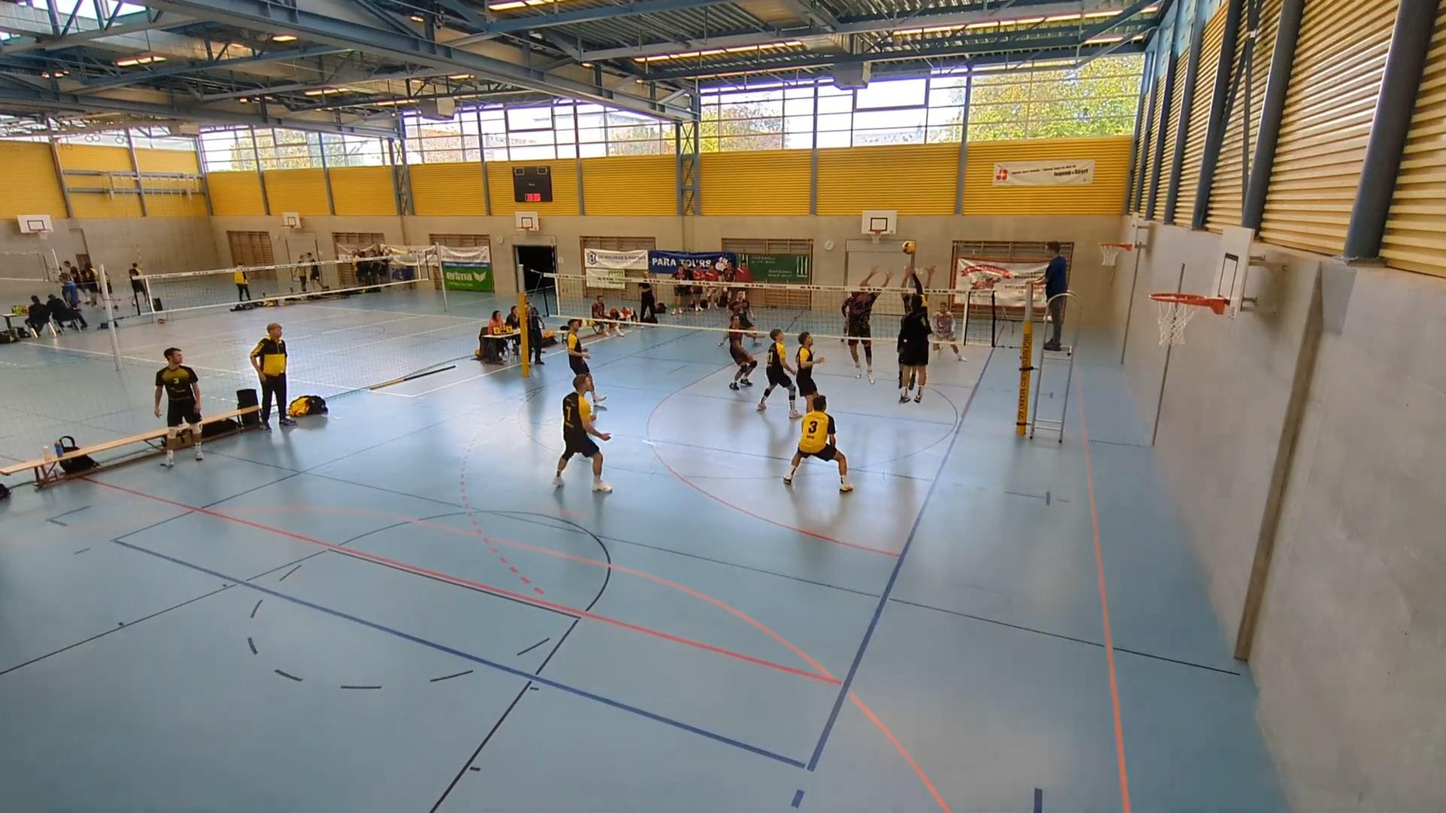Attack: (887, 266, 933, 411)
Block: (836, 251, 886, 381), (882, 249, 928, 296)
Player: (553, 373, 612, 492), (783, 395, 853, 492), (758, 328, 801, 418), (566, 318, 605, 408), (727, 315, 756, 390), (796, 332, 823, 410), (933, 301, 964, 360), (731, 289, 758, 346)
ball: (900, 241, 916, 252)
